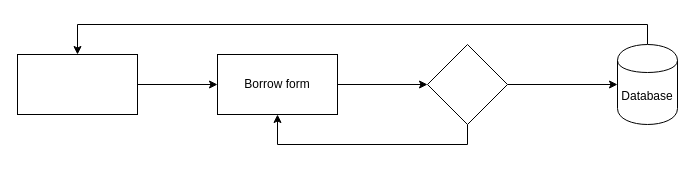
Some shapes in this 695 by 170 pixel diagram are drawn without their labels. The shapes that lost their labels are listed below. From the top down, each one's box as (x1, y1, x2, y2) in pixels, then its label:
(16, 54, 138, 114): Item List
(426, 44, 508, 124): Validation
